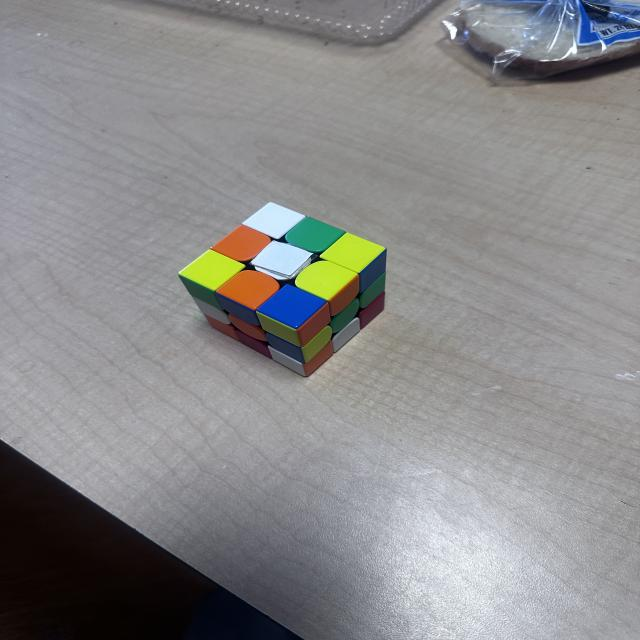sticker: (254, 284, 333, 348), (177, 250, 246, 318), (316, 232, 388, 293), (294, 260, 362, 318), (215, 268, 282, 326), (264, 331, 334, 378), (240, 200, 309, 242), (250, 240, 319, 282), (210, 224, 273, 264), (284, 216, 346, 255), (295, 303, 334, 348), (229, 315, 271, 356), (328, 294, 360, 335), (301, 326, 333, 364), (190, 294, 230, 324), (358, 266, 386, 308), (331, 315, 361, 353), (358, 291, 386, 330), (204, 313, 239, 343)
